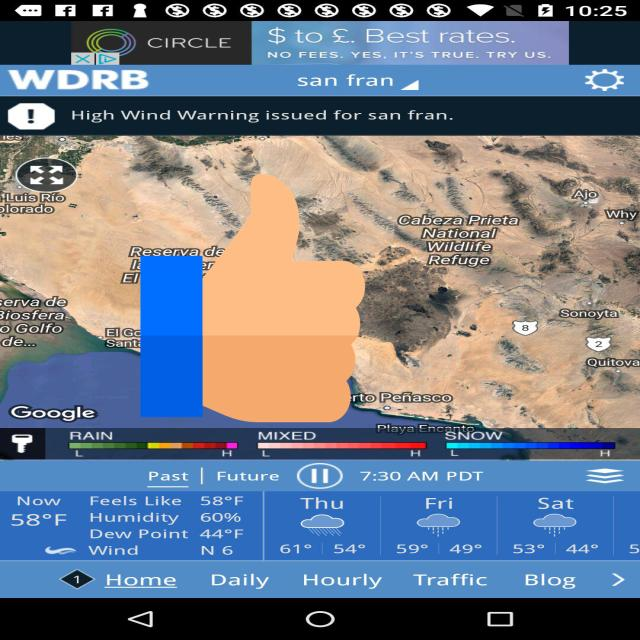privacy zuckering: (140, 168, 365, 428)
